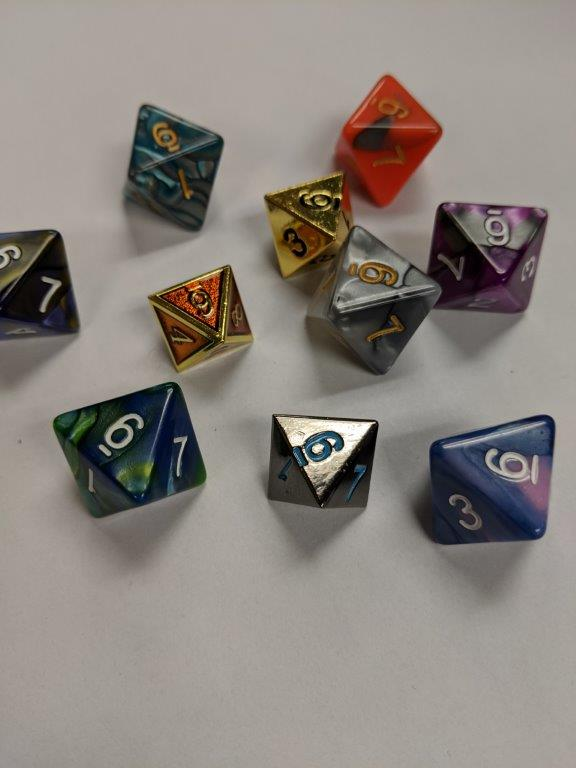d8-6: (55, 380, 210, 519), (306, 222, 443, 376), (432, 415, 556, 549), (335, 71, 442, 206), (427, 202, 547, 318), (122, 104, 225, 232), (266, 413, 381, 517), (149, 261, 256, 371), (262, 172, 352, 278), (1, 226, 82, 338)
